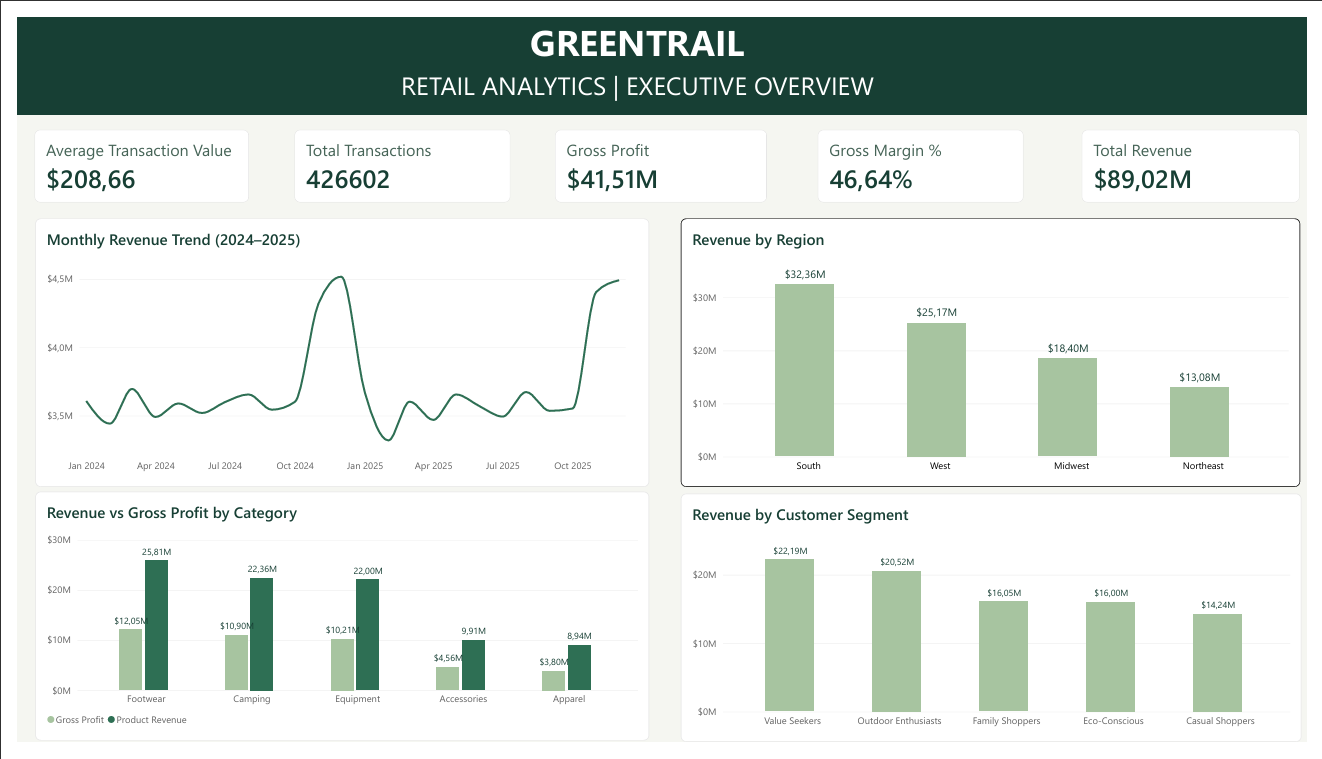

Layout of this report page (visuals, bound fields, positions):
{"tool":"powerbi","page":{"name":"Executive Overview","canvas":[1920,1080],"ordinal":0},"visuals":[{"type":"cardVisual","fields":{"Data":["transactions.Average Transaction Value"]},"box":[25.9,168.5,319.7,108],"z":0},{"type":"cardVisual","fields":{"Data":["transactions.Gross Margin %"]},"box":[1192.3,168.5,306.7,108],"z":1000},{"type":"cardVisual","fields":{"Data":["transactions.Total Transactions"]},"box":[412.6,168.5,321.8,108],"z":2000},{"type":"cardVisual","fields":{"Data":["transactions.Gross Profit"]},"box":[801.4,168.5,315.4,108],"z":3000},{"type":"cardVisual","fields":{"Data":["transactions.Total Revenue"]},"box":[1585.4,168.5,324,108],"z":4000},{"type":"shape","box":[0,0,1920,146.1],"z":5000},{"type":"textbox","box":[0,0,1846.8,146.9],"z":6000},{"type":"textbox","box":[0,75.6,1846.8,71.3],"z":7000},{"type":"lineChart","title":"Monthly Revenue Trend (2024–2025)","fields":{"Category":["transactions.transaction_date.Variation.Date Hierarchy.Year","transactions.transaction_date.Variation.Date Hierarchy.Month"],"Y":["transactions.Total Revenue"]},"box":[26.8,300,914.6,400],"z":8000},{"type":"clusteredColumnChart","title":"Revenue by Region","fields":{"Category":["stores.region"],"Y":["transactions.Total Revenue"]},"box":[987.8,300,922,400],"z":9000},{"type":"clusteredColumnChart","title":"Revenue vs Gross Profit by Category","fields":{"Category":["products.category"],"Y":["transactions.Gross Profit","campaign_costs.Product Revenue"]},"box":[26.8,707.3,914.6,370.7],"z":10000},{"type":"clusteredColumnChart","title":"Revenue by Customer Segment","fields":{"Category":["customer_segments.segment_name"],"Y":["transactions.Total Revenue"]},"box":[987.8,709.8,924.4,370.7],"z":11000}]}

Visuals, with their boxes in screenshot pixels (x1, y1, x2, y2), scaled from the page's 1920x1080 canvas onto the 1322x759 screenshot:
cardVisual - transactions.Average Transaction Value: left=18, top=118, right=238, bottom=194
cardVisual - transactions.Gross Margin %: left=821, top=118, right=1032, bottom=194
cardVisual - transactions.Total Transactions: left=284, top=118, right=506, bottom=194
cardVisual - transactions.Gross Profit: left=552, top=118, right=769, bottom=194
cardVisual - transactions.Total Revenue: left=1092, top=118, right=1315, bottom=194
shape: left=0, top=0, right=1321, bottom=103
textbox: left=0, top=0, right=1272, bottom=103
textbox: left=0, top=53, right=1272, bottom=103
"Monthly Revenue Trend (2024–2025)" lineChart: left=18, top=211, right=648, bottom=492
"Revenue by Region" clusteredColumnChart: left=680, top=211, right=1315, bottom=492
"Revenue vs Gross Profit by Category" clusteredColumnChart: left=18, top=497, right=648, bottom=758
"Revenue by Customer Segment" clusteredColumnChart: left=680, top=499, right=1317, bottom=758
